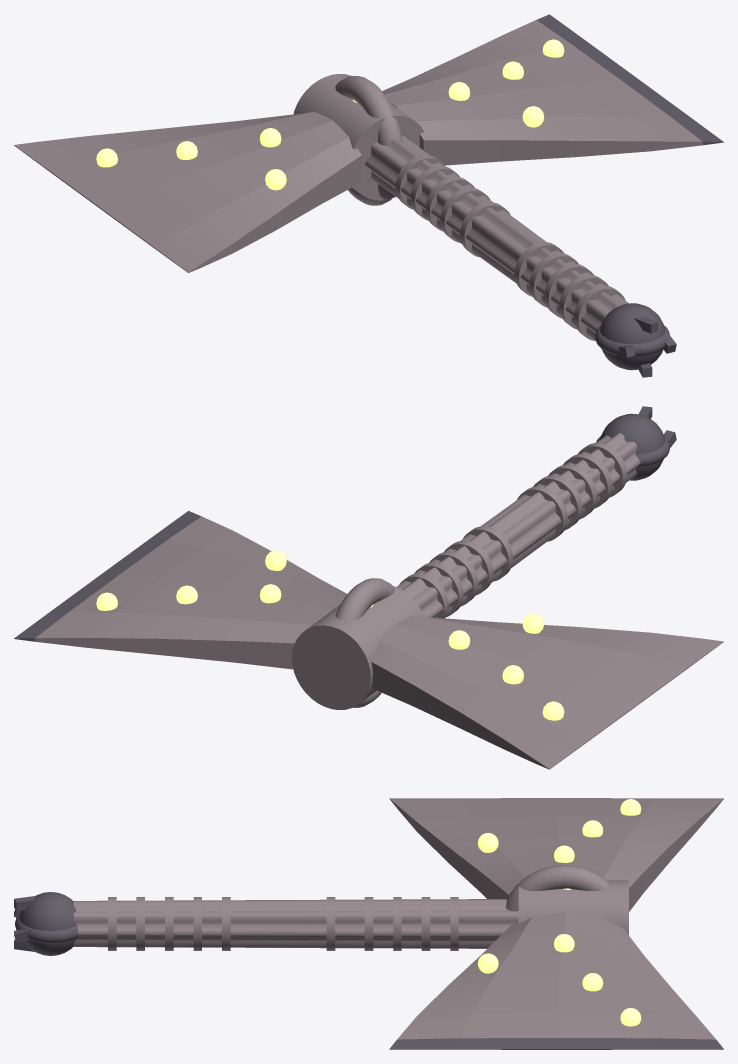
File: art_obsidian_hell_splitter.fbx
The picture shows the model from 3 angles, top to bottom: view 1: azimuth 30°, elevation 25°; view 2: azimuth 150°, elevation 25°; view 3: azimuth 270°, elevation 25°; orthographic projection. The views are drawn at different scales.
Visible parts, largest first — view 1: BackSpike, Blade, Handle, HeadCollar, Pommel, RuneInlay, BladeEdge; view 2: BackSpike, Blade, Handle, HeadCollar, RuneInlay, BladeEdge, Pommel; view 3: Blade, Handle, BackSpike, HeadCollar, BladeEdge, Pommel, RuneInlay.
Part boxes in pixels (x1,y1,x2,y2): BackSpike: (14,111,361,272); Blade: (382,20,702,165); Handle: (365,136,628,340); HeadCollar: (293,74,423,205); Pommel: (595,303,676,377); RuneInlay: (96,39,564,190); BladeEdge: (536,14,723,145); BackSpike: (371,615,723,769); Blade: (35,516,347,669); Handle: (397,433,640,618); HeadCollar: (292,578,423,709); RuneInlay: (96,550,564,720); BladeEdge: (14,511,201,641); Pommel: (596,406,676,480); Blade: (397,912,715,1039); Handle: (73,897,518,950); BackSpike: (389,798,723,911); HeadCollar: (506,865,628,934); BladeEdge: (389,1038,723,1049); Pommel: (14,892,77,955); RuneInlay: (477,799,641,1026).
Bounding box in the file's own units: 312 × 67 × 373.
